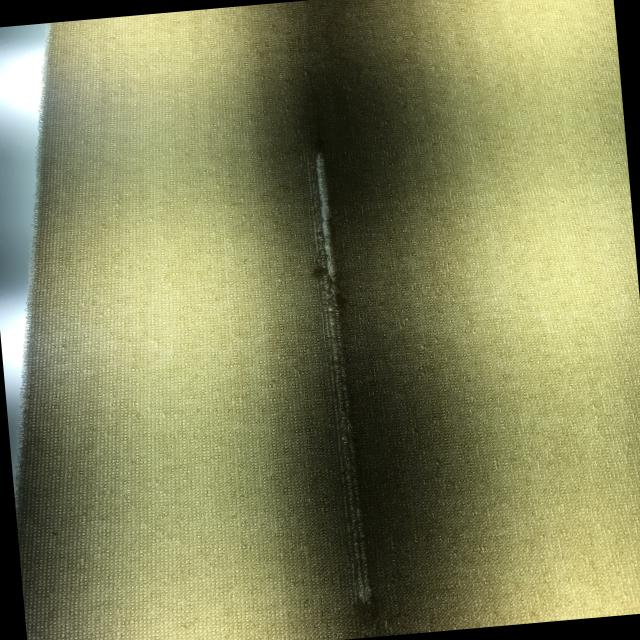Warp_Weft: (308, 152, 368, 606)
